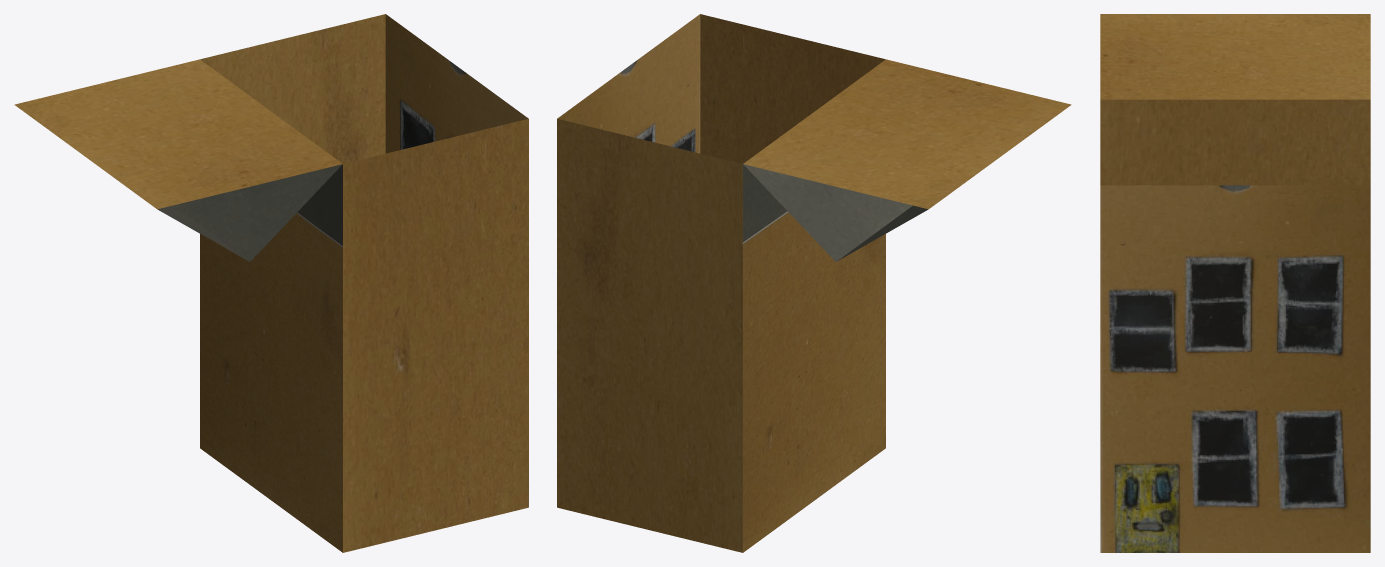
The picture shows the model from 3 angles, left to right: view 1: azimuth 30°, elevation 25°; view 2: azimuth 150°, elevation 25°; view 3: azimuth 270°, elevation 25°; orthographic projection. The views are drawn at different scales.
Parts seen in each view (by area): view 1: Cube, Cube.002, Cube.003; view 2: Cube, Cube.002, Cube.003; view 3: Cube, Cube.003, Cube.002.
Part boxes in pixels (left/top/right/bottom): Cube: left=200, top=118, right=528, bottom=552; Cube.002: left=14, top=59, right=342, bottom=261; Cube.003: left=200, top=14, right=528, bottom=163; Cube: left=557, top=118, right=885, bottom=552; Cube.002: left=743, top=59, right=1071, bottom=261; Cube.003: left=557, top=14, right=885, bottom=163; Cube: left=1100, top=185, right=1370, bottom=552; Cube.003: left=1100, top=99, right=1370, bottom=185; Cube.002: left=1100, top=14, right=1370, bottom=99.
Size of the model in its own units: 15 by 15 by 10.
1 material, 1 textured.
